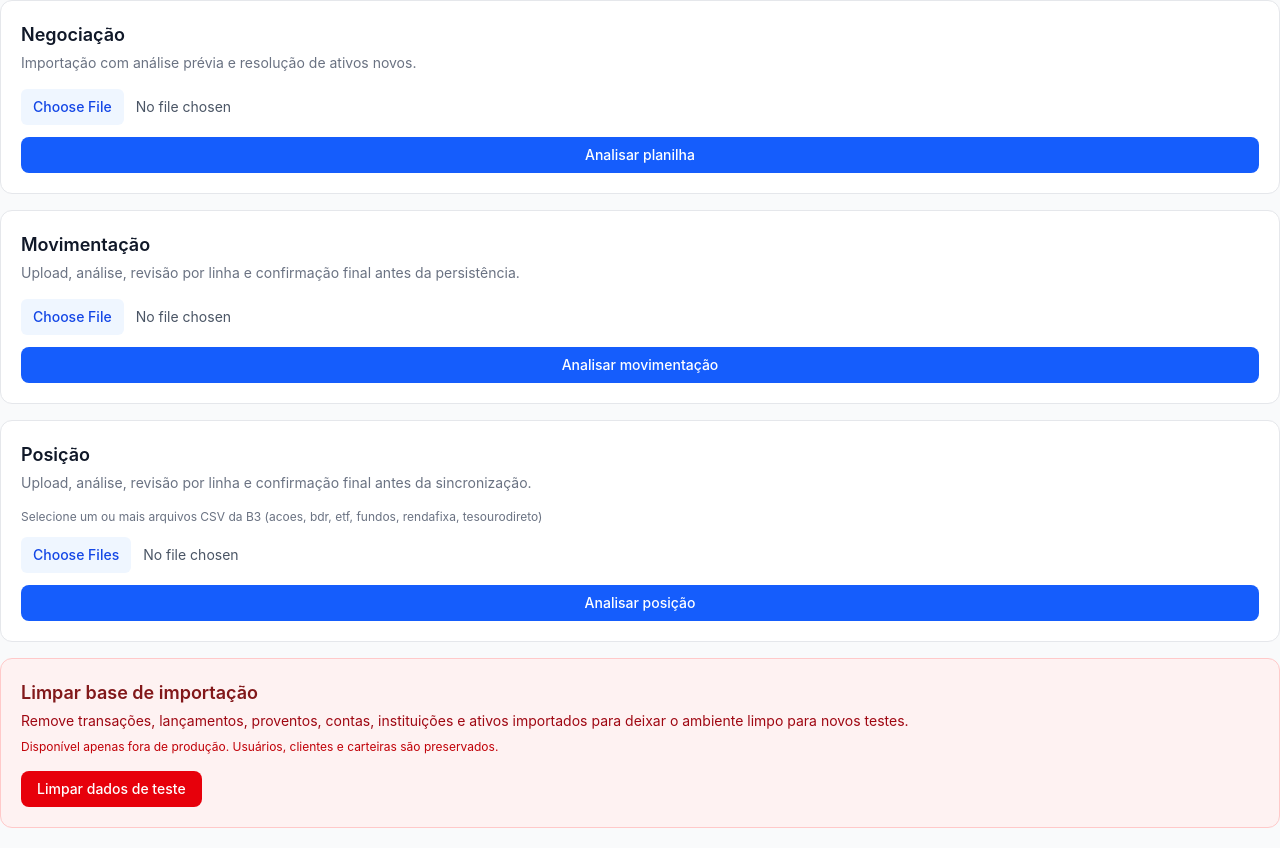
ImportPageClient wizard › permite aplicar em lote a conta selecionada quando há múltiplas contas
Submit the form "Analisar planilha", box [21,89,1259,173]
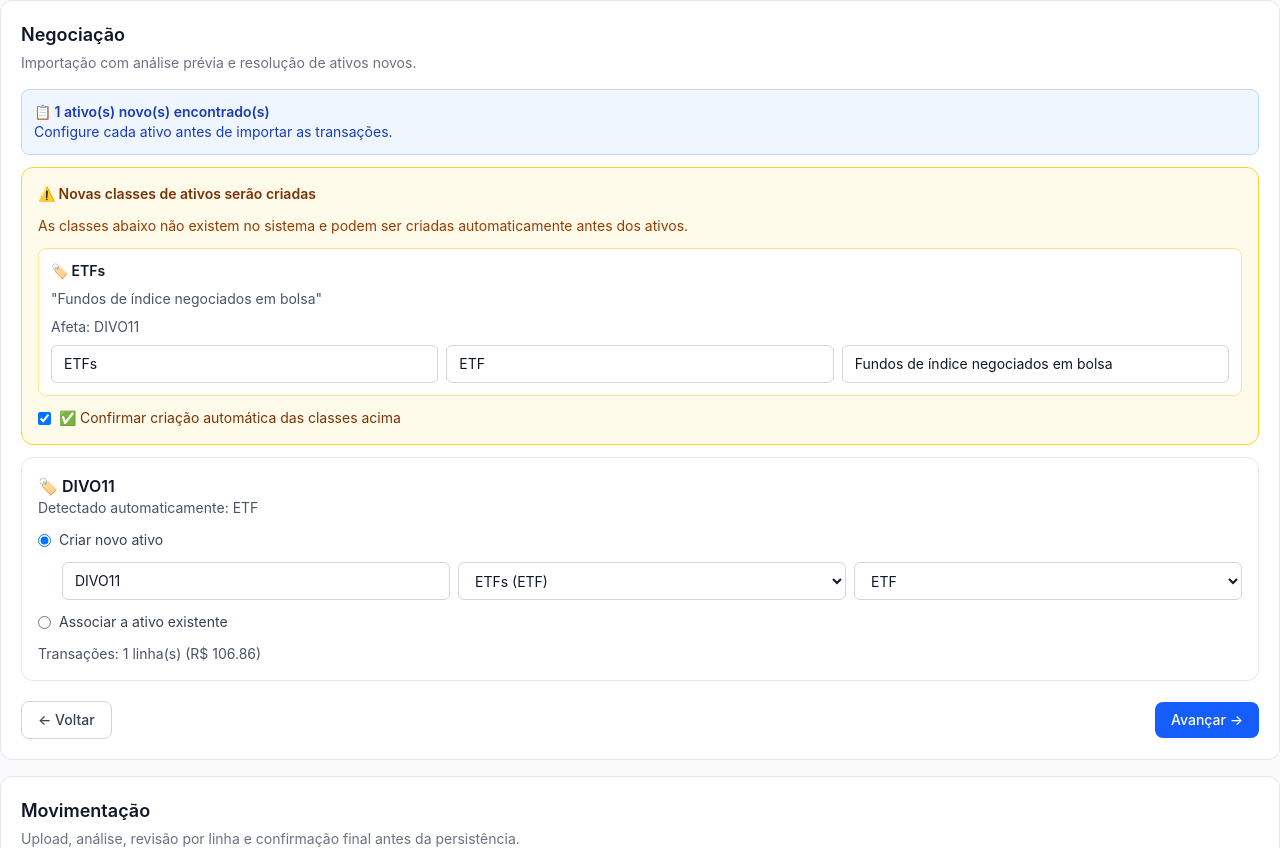
Expected: the button "Avançar →" is shown
Click the button "Avançar →".
click(1207, 720)  # box [1155,702,1259,738]
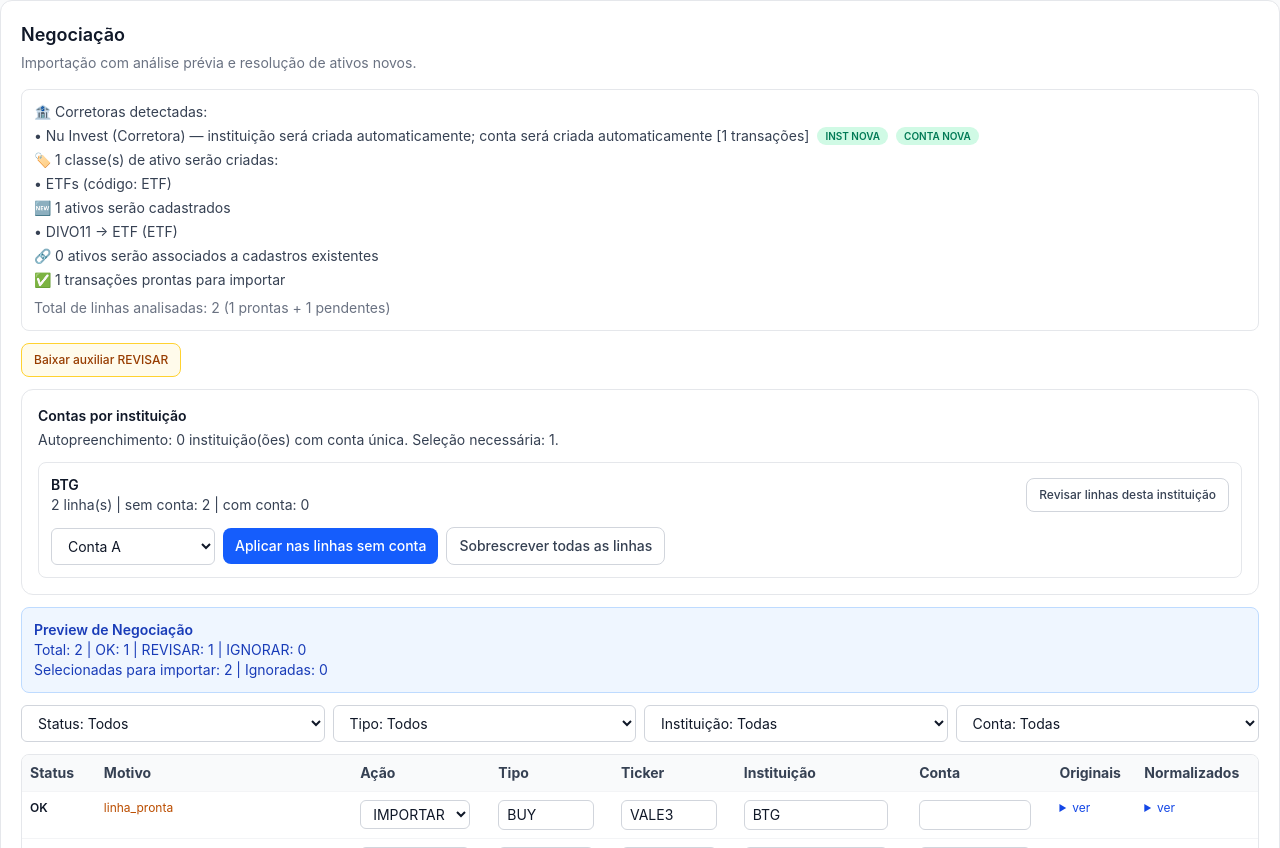
Select "Conta A" in the dropdown below "linha(s) | sem conta:" at (133, 546), box [51,528,215,564]
Click the button "Aplicar nas linhas sem conta".
click(331, 546)  # box [223,528,438,564]
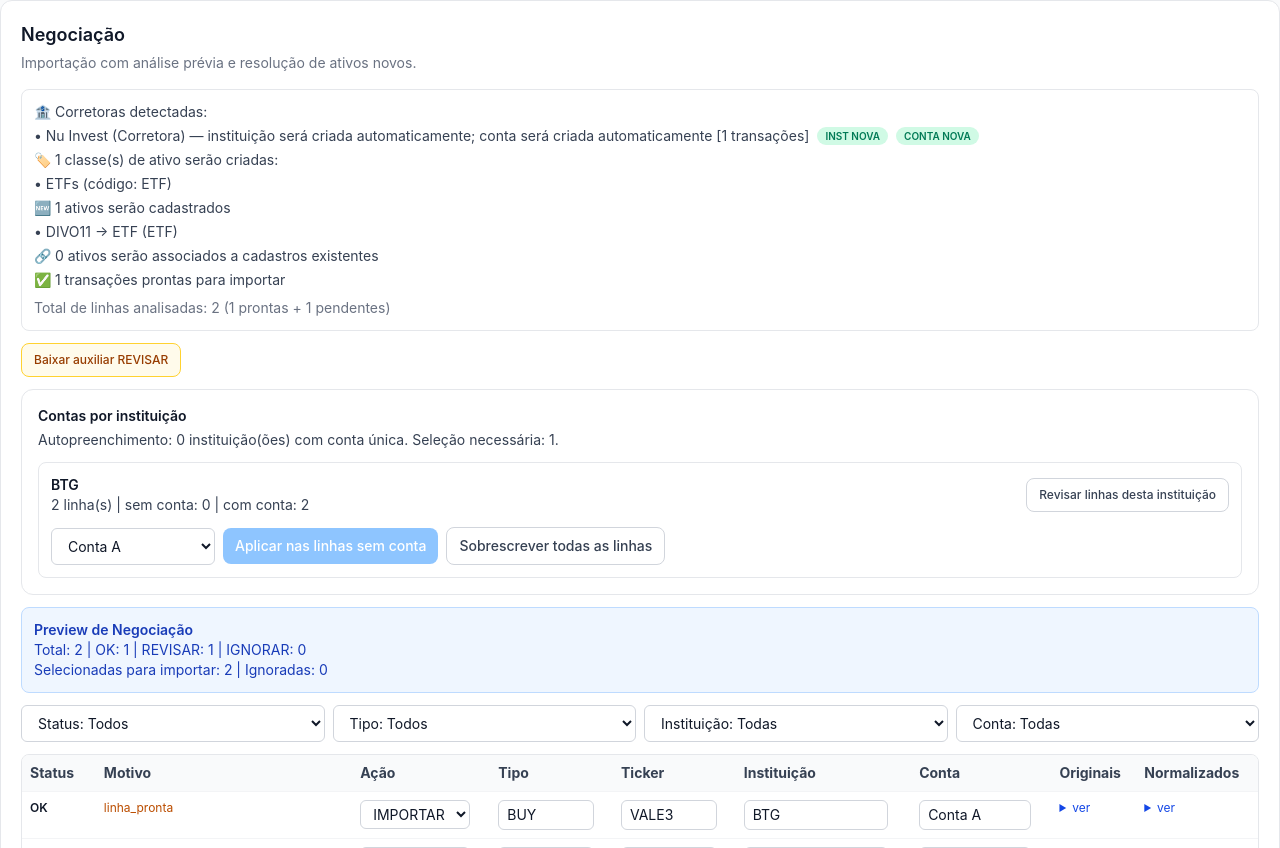
Expected: the 4th field holds "Conta A", [919,800,1031,830]
